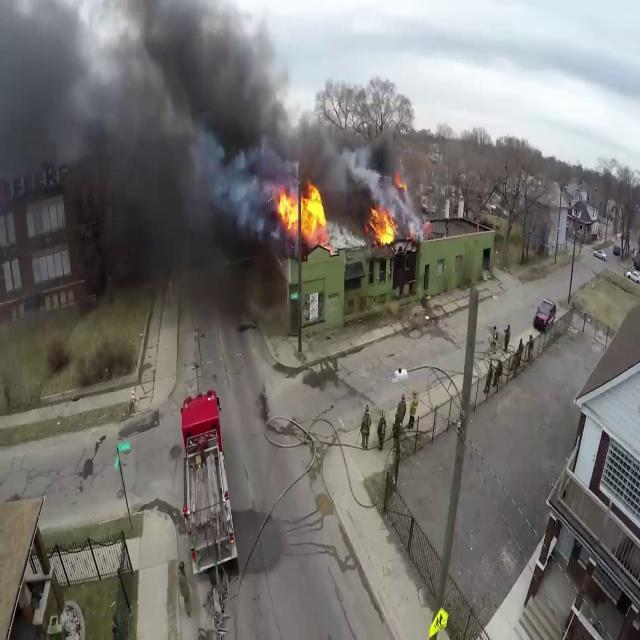Fire: (274, 177, 328, 244), (370, 200, 400, 250)
Smoke: (0, 0, 366, 317)
